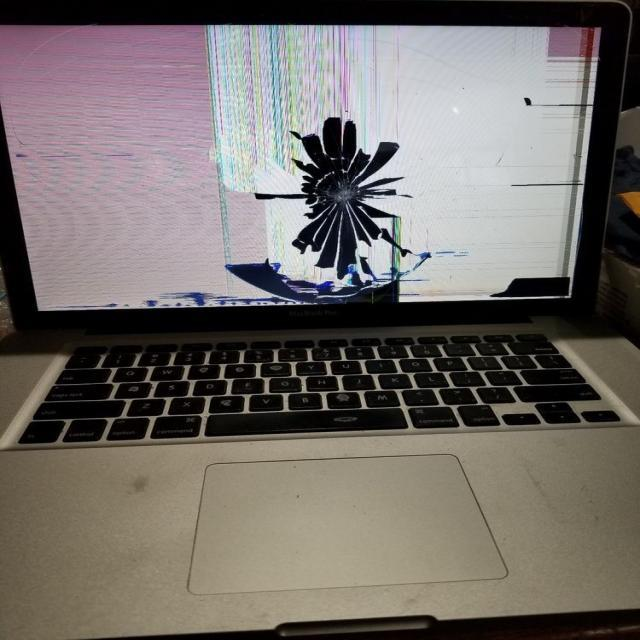Screen cracks: (143, 120, 449, 306)
